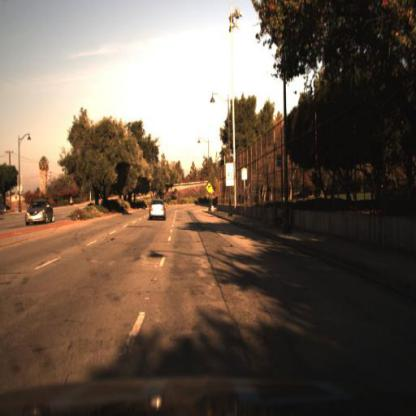car: (26, 197, 56, 228), (148, 199, 168, 222)
